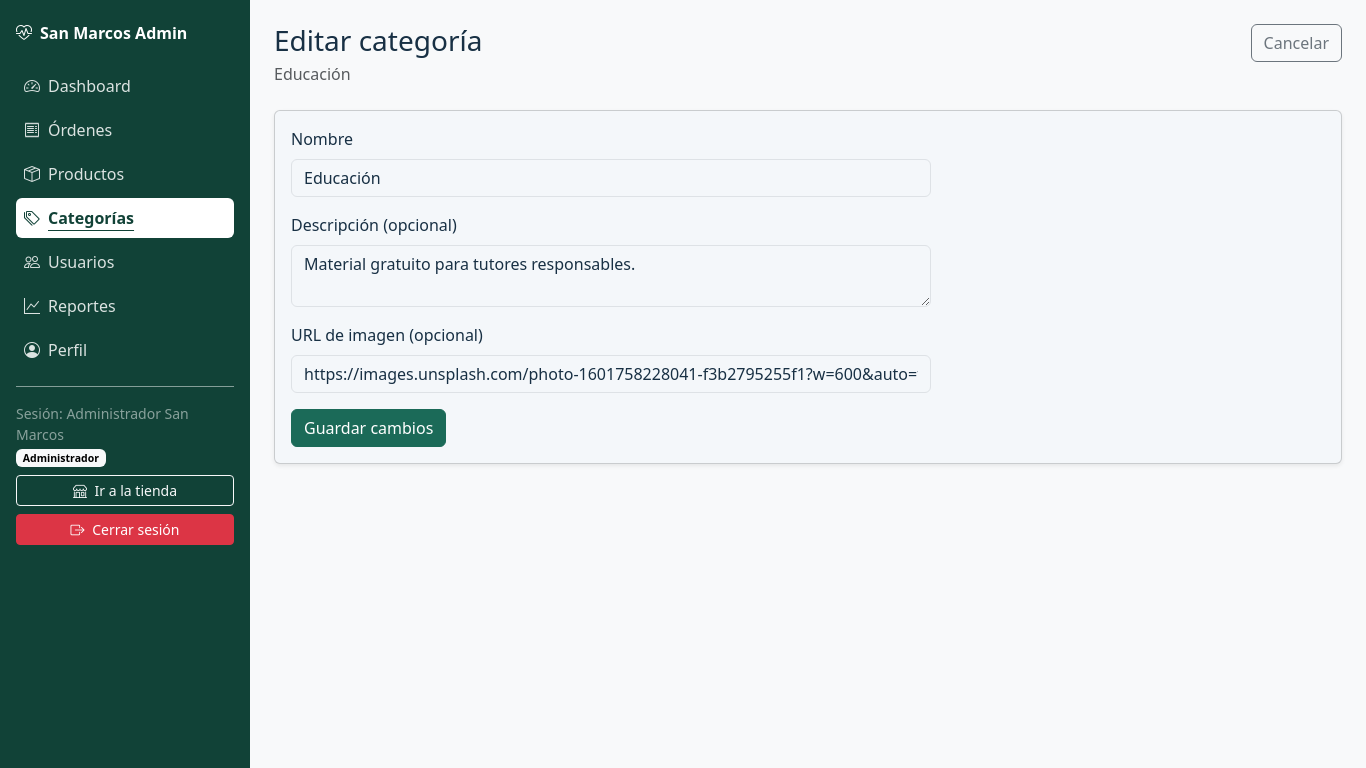
Test: Administración de categorías › edita una categoría existente
Replace the text in the field labelled "Nombre" with "Educación al tutor" at (611, 178), box 291,159 -> 931,197
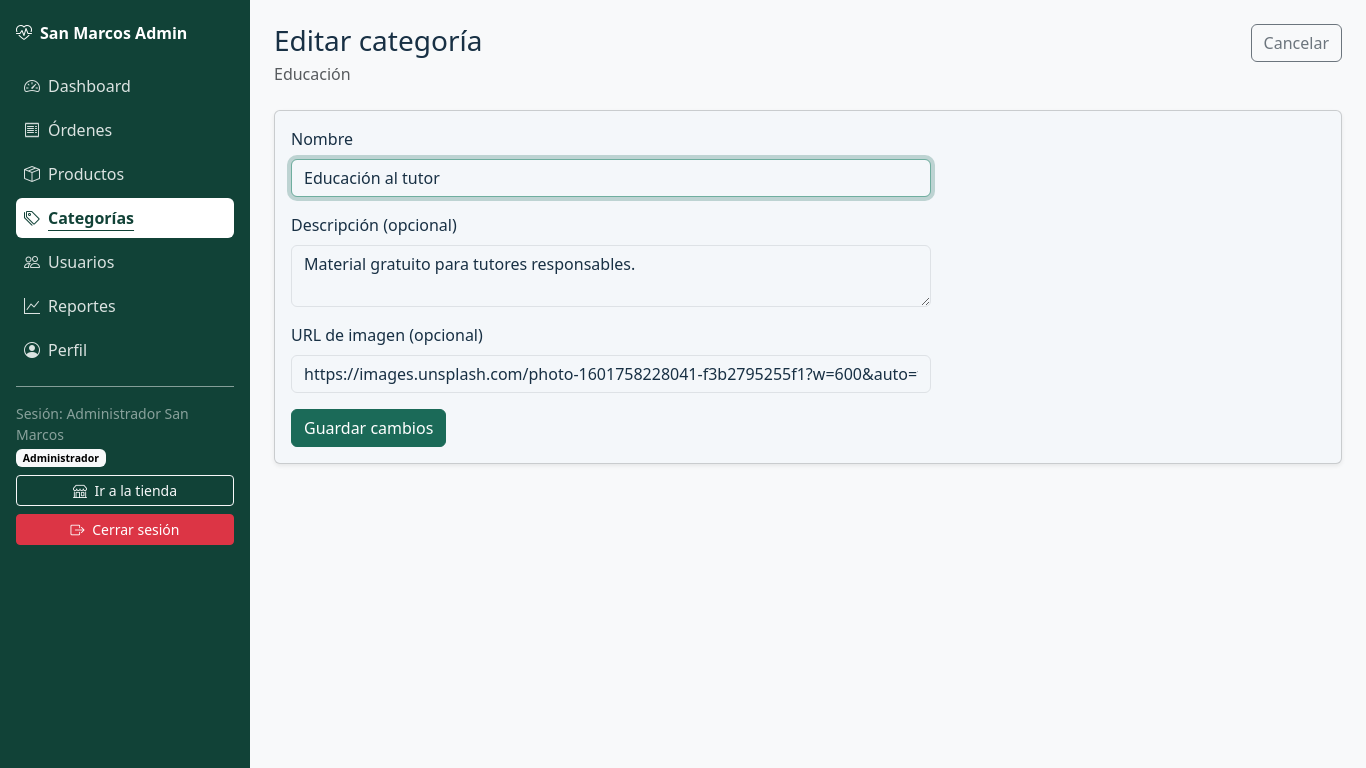
Click the button "Guardar cambios" at (369, 428), box 291,409 -> 446,447
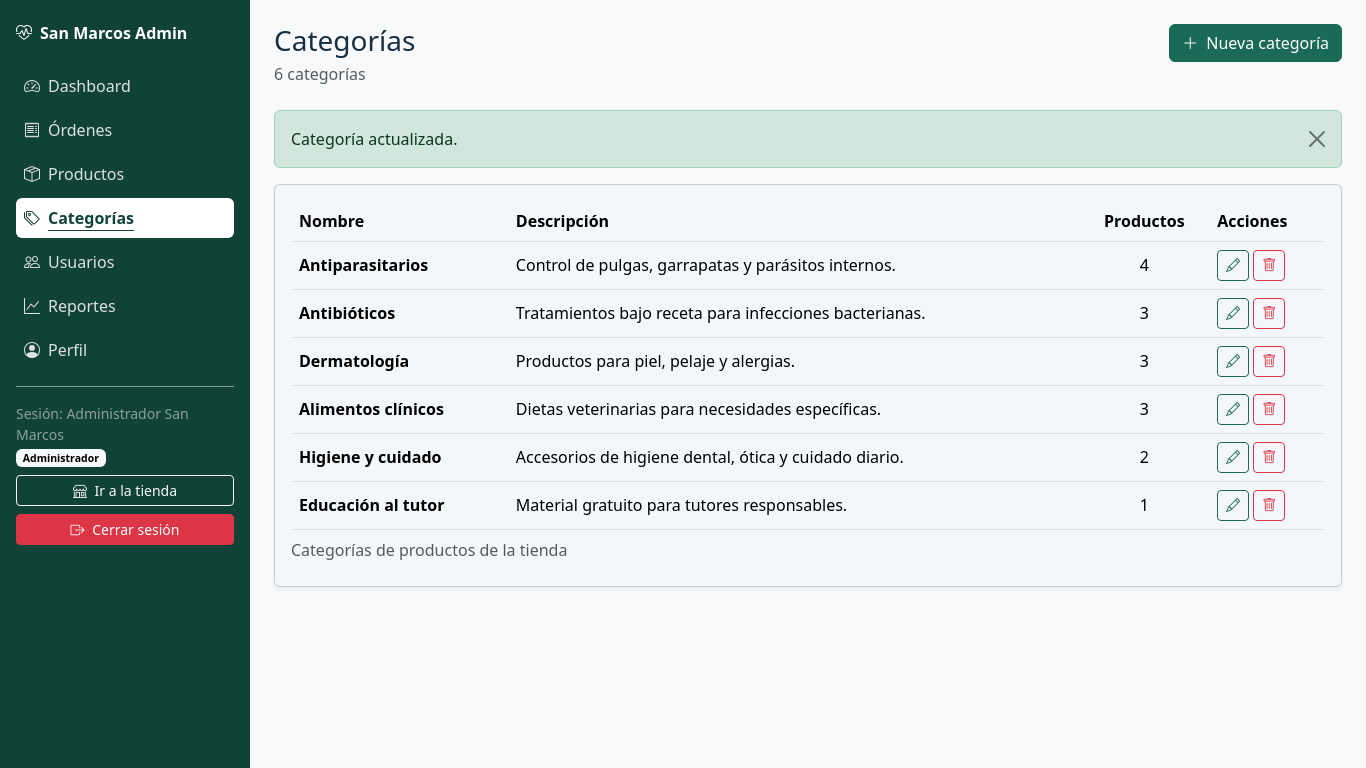
Now the text "Categoría actualizada." is shown, box 274,110 -> 1342,168
Now the column heading "Educación al tutor" is shown, box 291,481 -> 508,529
